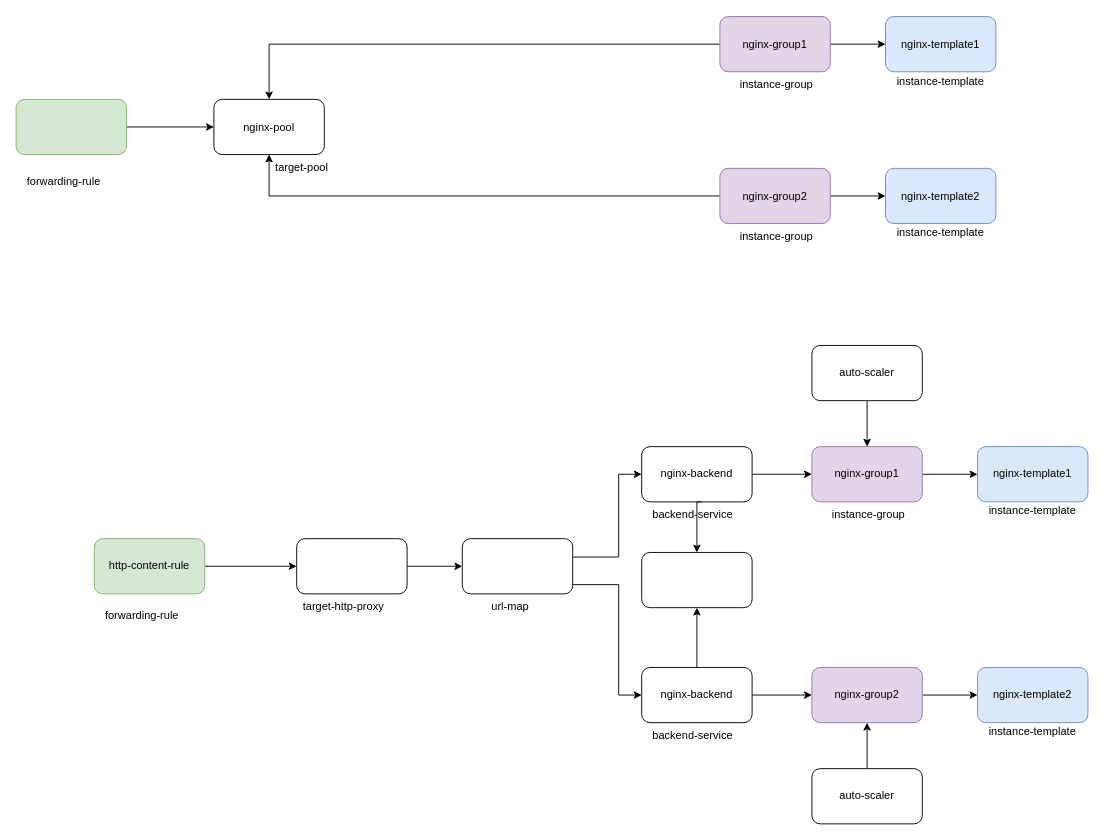
The diagram is 1104 pixels wide and 840 high, and some of its shapes have lost their labels. Each missing label, with the box of its shape:
http-basic-check: (641, 552, 752, 608)
http-lb-proxy: (296, 538, 407, 594)
nginx-lb: (15, 98, 126, 155)
web-map: (461, 538, 573, 594)
